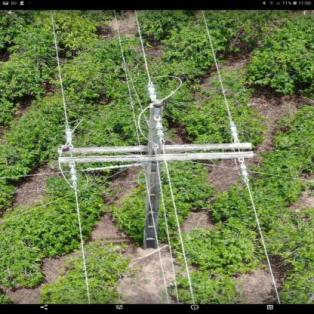Poste: (134, 94, 173, 252)
